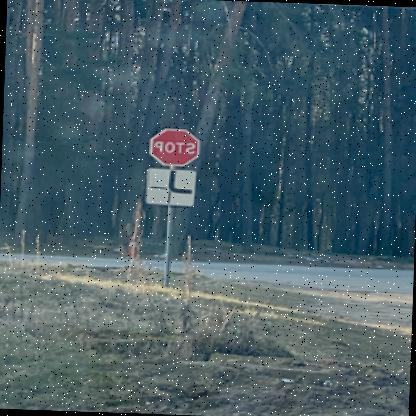stop: (150, 127, 202, 166)
